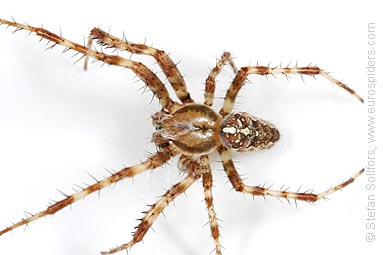spider: (1, 3, 366, 255)
